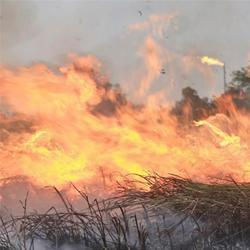fire: (2, 68, 106, 179), (129, 116, 250, 186)
